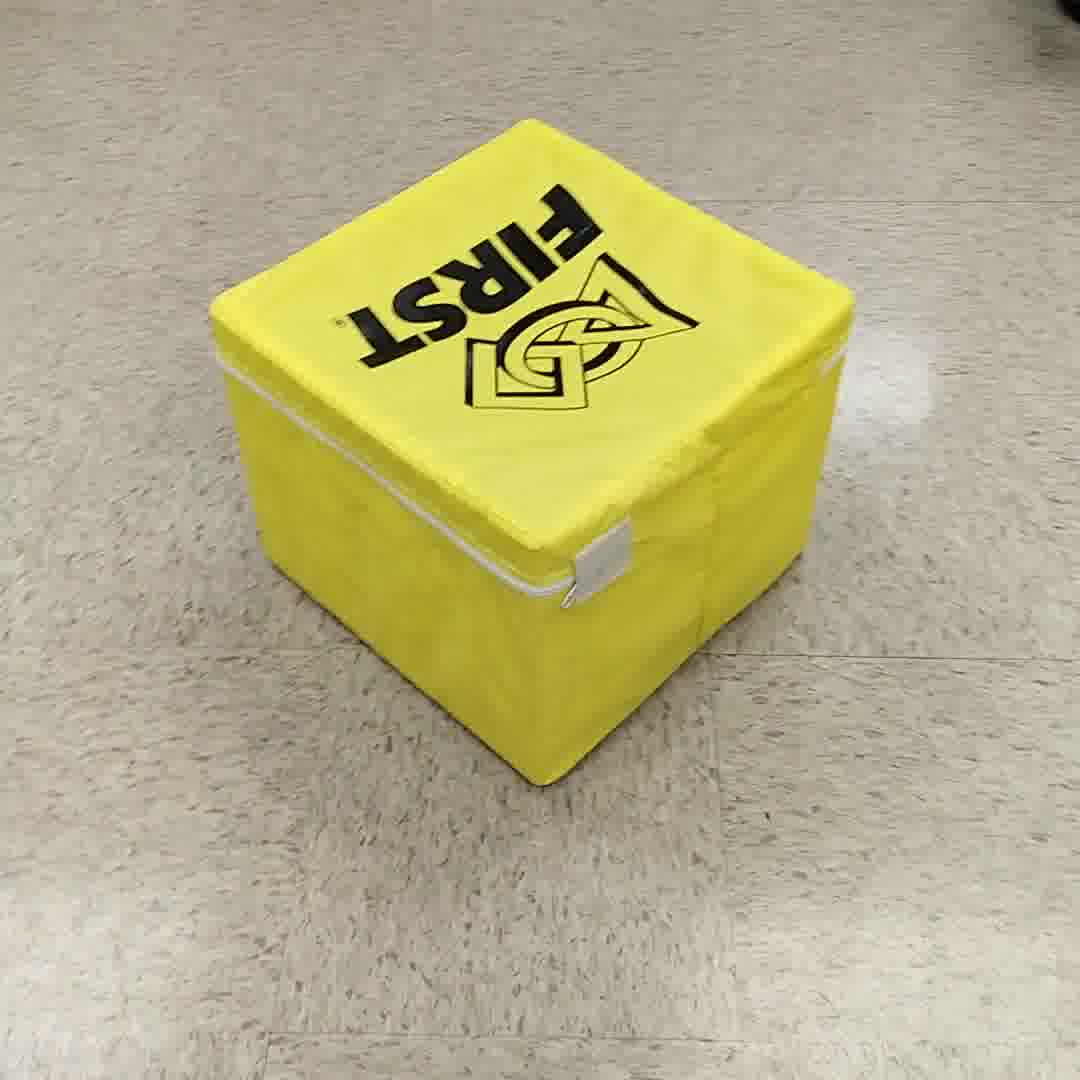box: (207, 120, 851, 789)
